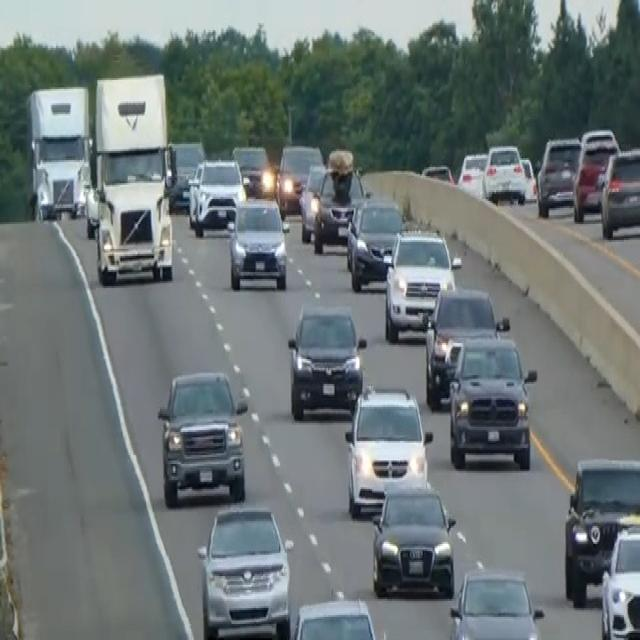car: (196, 502, 291, 638), (447, 331, 537, 469), (343, 382, 432, 518), (563, 454, 639, 606), (423, 283, 509, 409), (370, 480, 456, 599), (286, 300, 366, 420), (383, 226, 461, 341), (447, 562, 545, 638), (226, 194, 289, 290), (345, 192, 403, 290), (312, 150, 365, 252), (599, 518, 639, 638), (191, 154, 246, 236), (572, 127, 620, 220), (287, 594, 388, 638), (535, 133, 581, 217), (600, 144, 639, 240), (275, 141, 323, 215), (482, 140, 526, 204), (168, 137, 205, 208), (231, 140, 274, 198), (298, 160, 327, 242), (185, 156, 206, 226), (457, 150, 487, 198), (420, 160, 455, 185), (518, 155, 537, 201)
jeep: (156, 366, 249, 507)
lorry: (86, 70, 176, 284), (24, 80, 90, 222)
